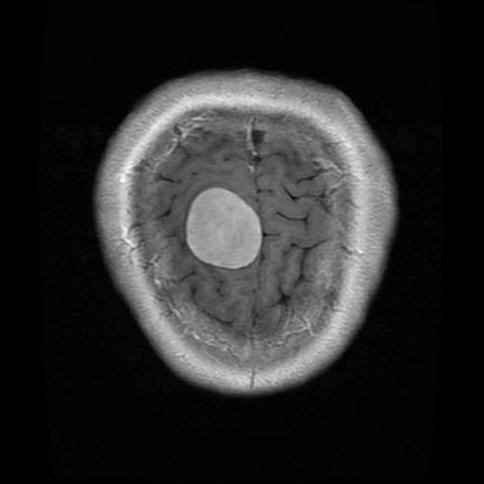Tumour-Meningioma: (166, 166, 272, 284)
